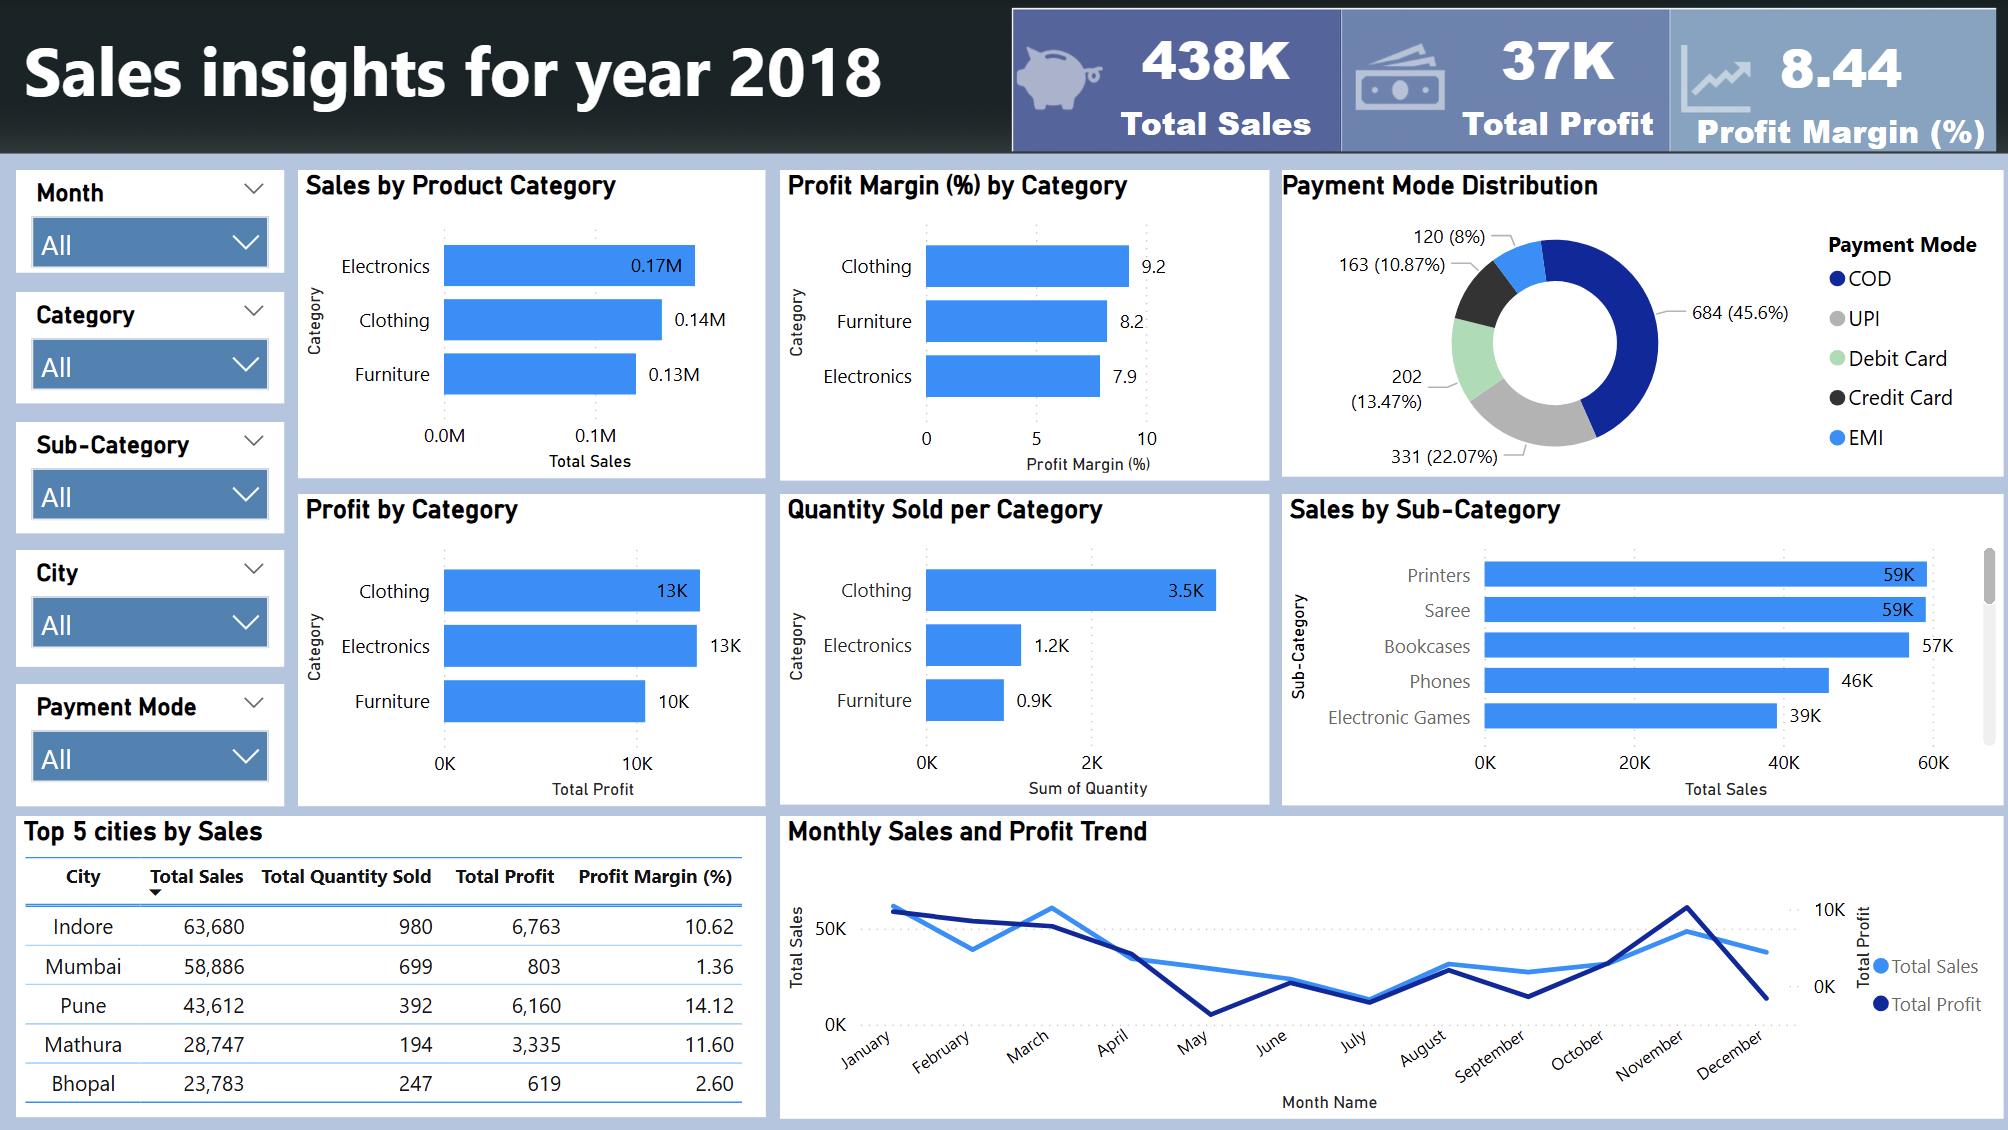

The page's visual inventory and layout, read from the dashboard file:
{"tool":"powerbi","page":{"name":"Sales Insights for 2018","canvas":[1280,720],"ordinal":0},"visuals":[{"type":"image","box":[0,0,1280,98.2],"z":0},{"type":"image","box":[640.5,0,637.5,101.5],"z":1000},{"type":"card","fields":{"Values":["Details.Total Sales"]},"box":[706.3,10.2,137.7,82.9],"z":2000},{"type":"card","fields":{"Values":["Details.Total Profit"]},"box":[924.3,10.2,137.7,82.9],"z":3000},{"type":"card","fields":{"Values":["Details.Profit Margin (%)"]},"box":[1076,15.3,195.1,82.9],"z":4000},{"type":"lineChart","title":"Monthly Sales and Profit Trend","fields":{"Y":["Details.Total Sales"],"Y2":["Details.Total Profit"],"Category":["Date Table.Month Name"]},"box":[497.1,520,780,192.9],"z":5000},{"type":"donutChart","title":"Payment Mode Distribution","fields":{"Category":["Details.PaymentMode"],"Y":["CountNonNull(Details.Order ID)"]},"box":[817.1,108.6,460,195.7],"z":6000},{"type":"textbox","box":[10.6,10.6,629.9,83.3],"z":7000},{"type":"slicer","fields":{"Values":["Date Table.Month Name"]},"box":[10,107.8,171.1,65.6],"z":8000},{"type":"slicer","fields":{"Values":["Details.Category"]},"box":[10,185.6,171.1,71.1],"z":9000},{"type":"slicer","fields":{"Values":["Orders.City"]},"box":[10,351.1,171.1,74.4],"z":10000},{"type":"slicer","fields":{"Values":["Details.Sub-Category"]},"box":[10,268.9,171.1,71.1],"z":11000},{"type":"slicer","fields":{"Values":["Details.PaymentMode"]},"box":[10,435.6,171.1,77.8],"z":12000},{"type":"tableEx","title":"Top 5 cities by Sales","fields":{"Values":["Orders.City","Details.Total Sales","Details.Total Quantity Sold","Details.Total Profit","Details.Profit Margin (%)"]},"box":[10,520,477.8,192.2],"z":13000},{"type":"clusteredBarChart","title":"Sales by Product Category","fields":{"Category":["Details.Category"],"Y":["Details.Total Sales"]},"box":[190,108.2,298.2,196.4],"z":14000},{"type":"clusteredBarChart","title":"Profit by Category","fields":{"Category":["Details.Category"],"Y":["Details.Total Profit"]},"box":[190,314.5,298.2,199.1],"z":15000},{"type":"clusteredBarChart","fields":{"Category":["Details.Category"],"Y":["Details.Profit Margin (%)"]},"box":[497.3,108.2,311.8,198.2],"z":16000},{"type":"clusteredBarChart","title":"Quantity Sold per Category","fields":{"Category":["Details.Category"],"Y":["Sum(Details.Quantity)"]},"box":[497.3,314.5,311.8,198.2],"z":17000},{"type":"clusteredBarChart","title":"Sales by Sub-Category","fields":{"Category":["Details.Sub-Category"],"Y":["Details.Total Sales"]},"box":[817.1,314.3,460,198.6],"z":18000}]}

Visuals, with their boxes in screenshot pixels (x1, y1, x2, y2), scaled from the page's 1280x720 canvas onto the 2008x1130 screenshot:
image: x1=0 y1=0 x2=2007 y2=154
image: x1=1005 y1=0 x2=2005 y2=159
card - Details.Total Sales: x1=1108 y1=16 x2=1324 y2=146
card - Details.Total Profit: x1=1450 y1=16 x2=1666 y2=146
card - Details.Profit Margin (%): x1=1688 y1=24 x2=1994 y2=154
"Monthly Sales and Profit Trend" lineChart: x1=780 y1=816 x2=2003 y2=1119
"Payment Mode Distribution" donutChart: x1=1282 y1=170 x2=2003 y2=478
textbox: x1=17 y1=17 x2=1005 y2=147
slicer - Date Table.Month Name: x1=16 y1=169 x2=284 y2=272
slicer - Details.Category: x1=16 y1=291 x2=284 y2=403
slicer - Orders.City: x1=16 y1=551 x2=284 y2=668
slicer - Details.Sub-Category: x1=16 y1=422 x2=284 y2=534
slicer - Details.PaymentMode: x1=16 y1=684 x2=284 y2=806
"Top 5 cities by Sales" tableEx: x1=16 y1=816 x2=765 y2=1118
"Sales by Product Category" clusteredBarChart: x1=298 y1=170 x2=766 y2=478
"Profit by Category" clusteredBarChart: x1=298 y1=494 x2=766 y2=806
clusteredBarChart - Details.Category x Details.Profit Margin (%): x1=780 y1=170 x2=1269 y2=481
"Quantity Sold per Category" clusteredBarChart: x1=780 y1=494 x2=1269 y2=805
"Sales by Sub-Category" clusteredBarChart: x1=1282 y1=493 x2=2003 y2=805
